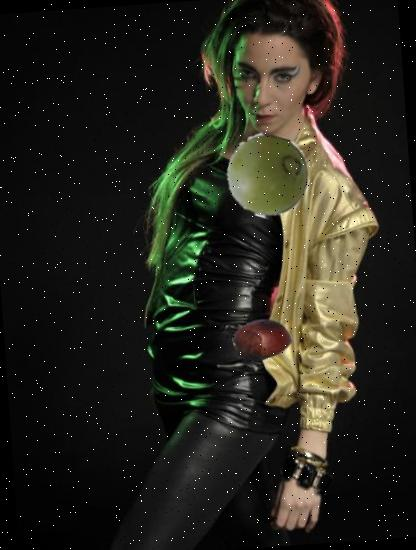Chestnut: (232, 308, 292, 369)
Grape: (223, 132, 312, 220)
